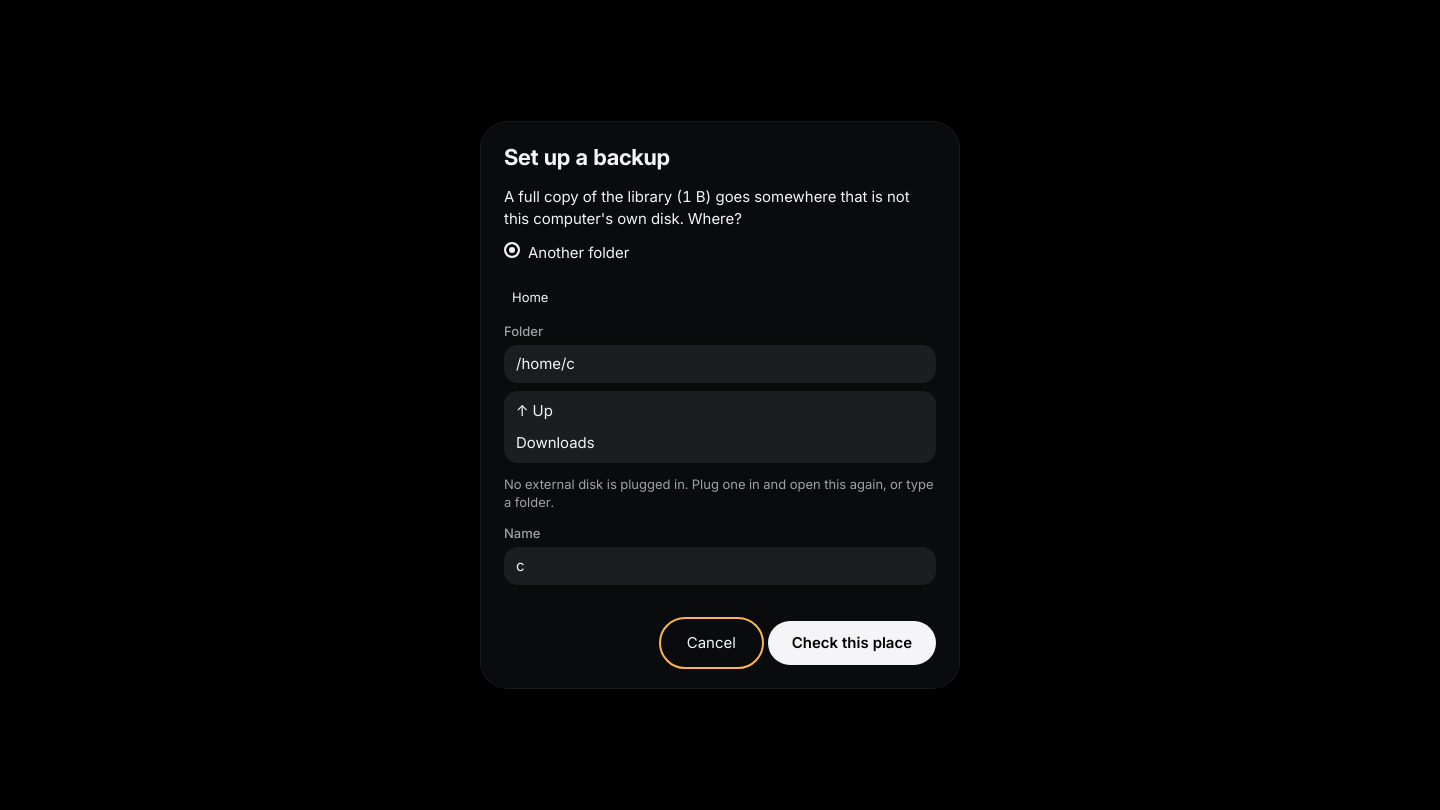
Test: BackupSetup, another folder › keeps a name that was typed when another folder is opened
Replace the text in the field labelled "Folder" with "/home/c/Downloads/testbackup" at (720, 364), box [504,345,936,383]
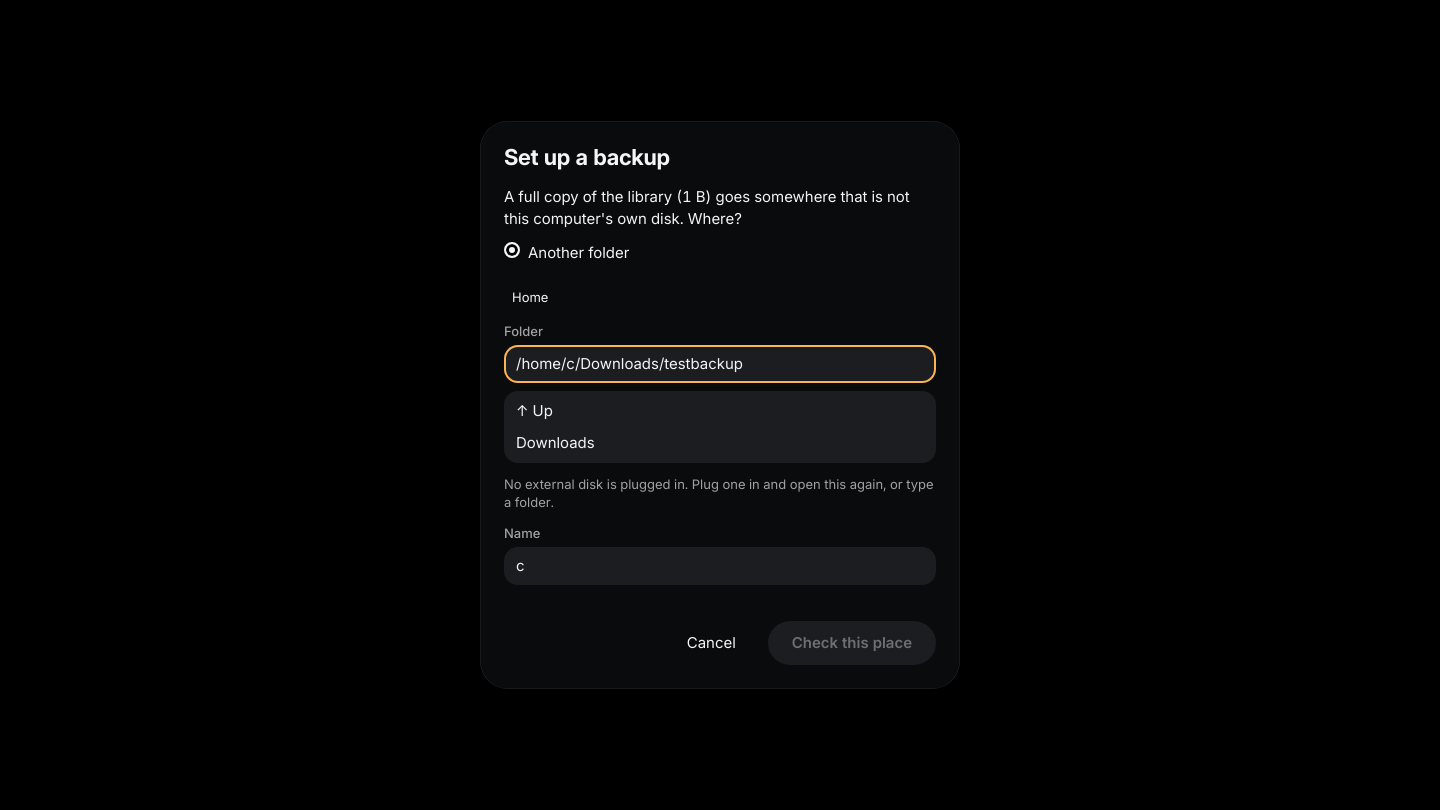
Press Enter in the field labelled "Folder", box [504,345,936,383]
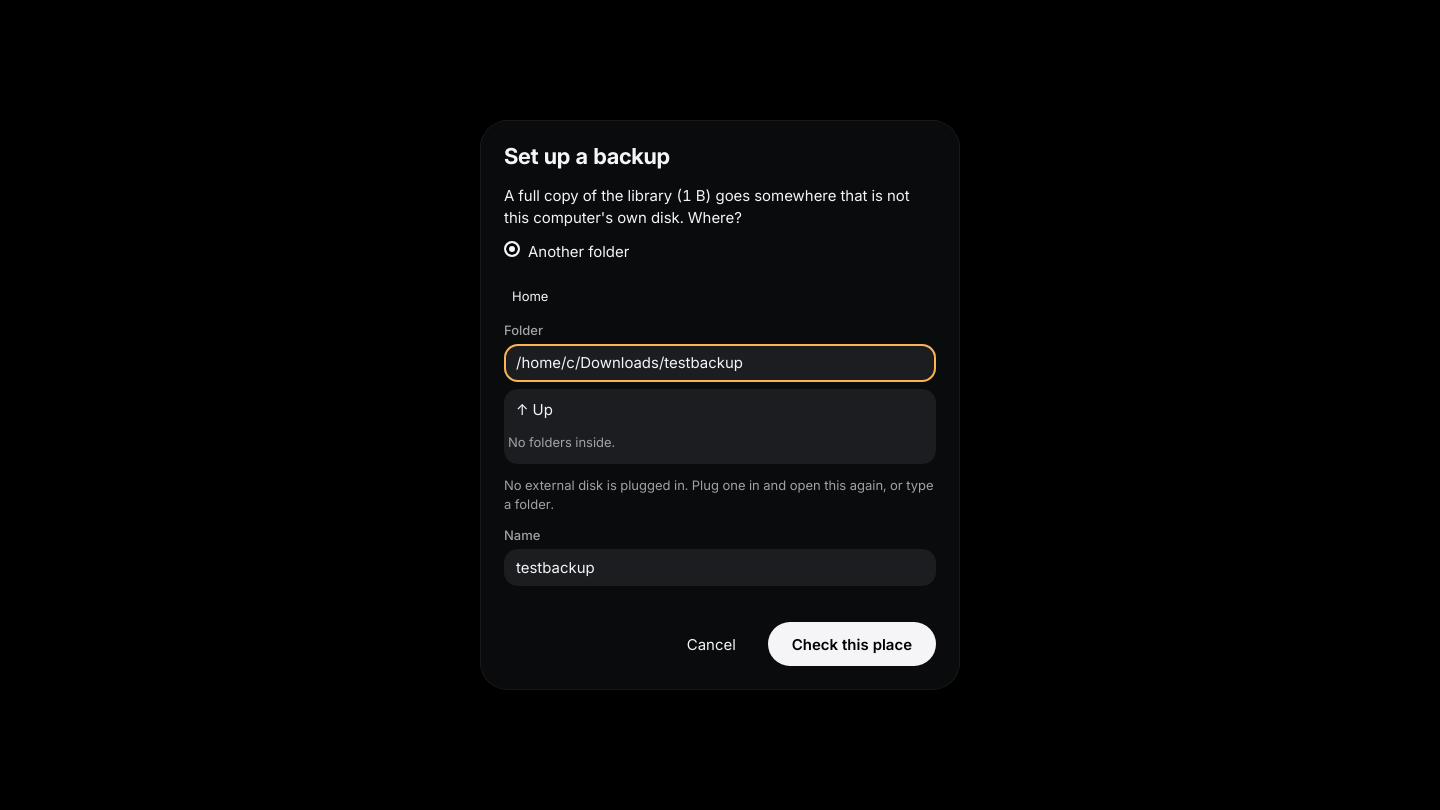
Replace the text in the field labelled "Name" with "Old disk" at (720, 567), box [504,548,936,586]
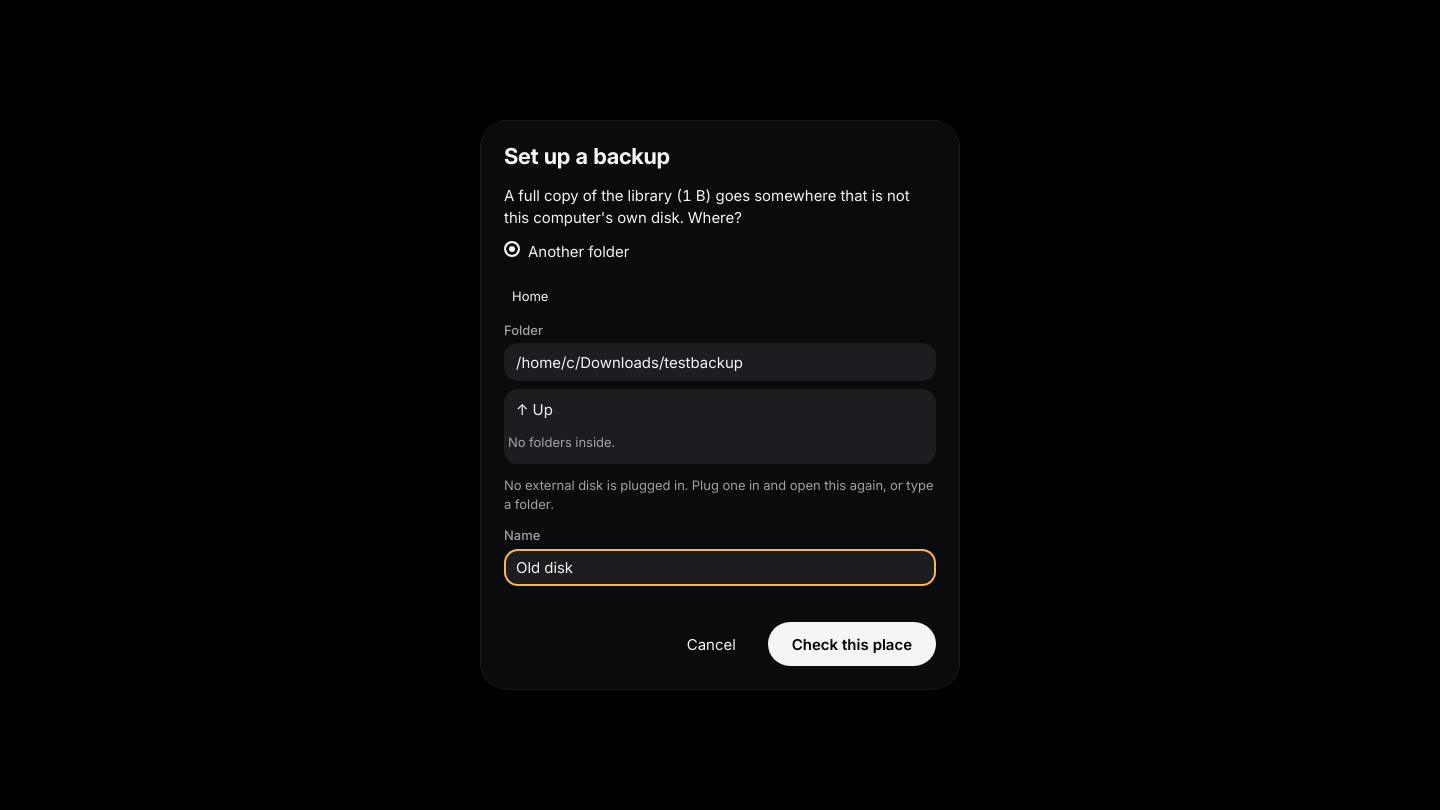
Click the button "Home" at (530, 296), box [504,280,556,312]
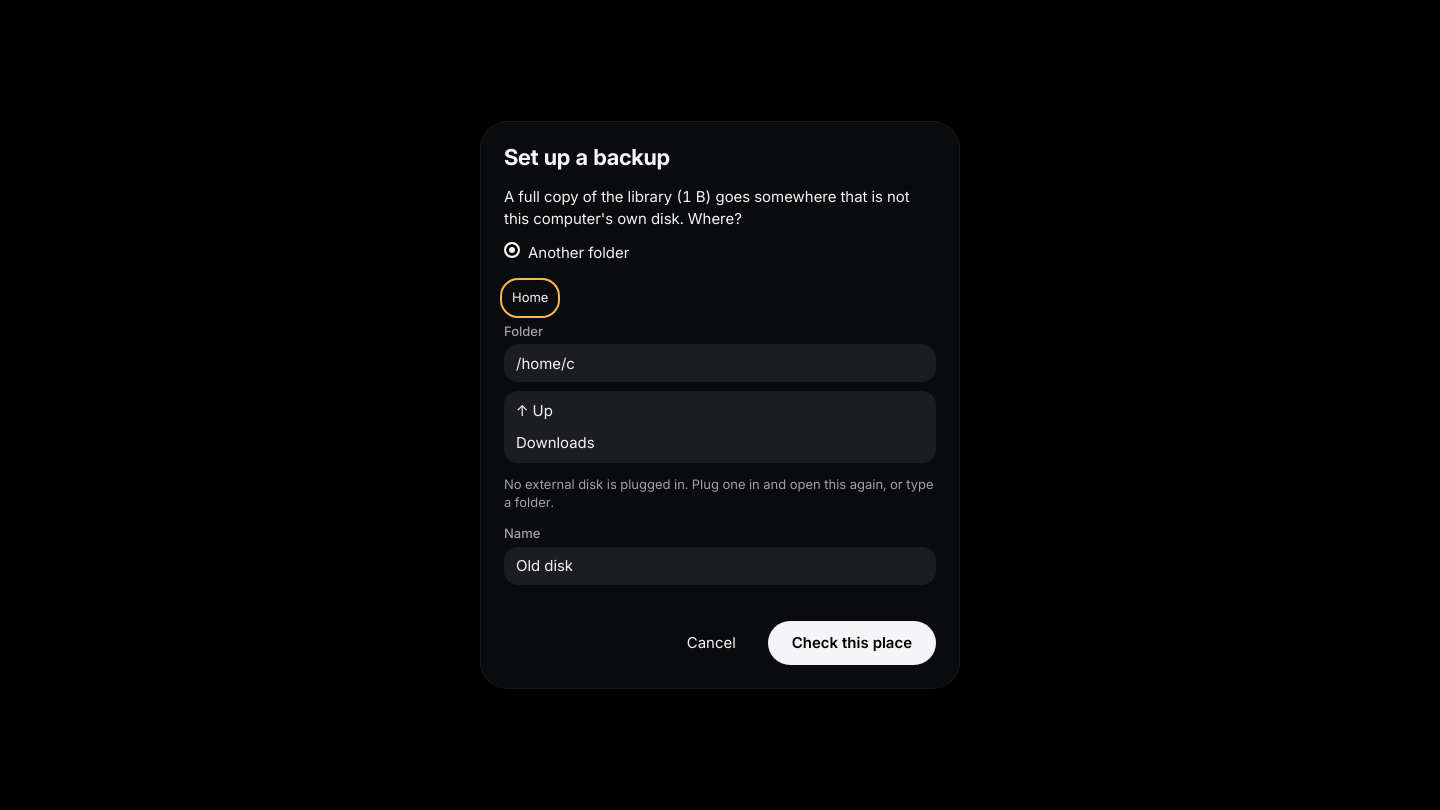
Result: the field labelled "Folder" holds "/home/c" at [504,345,936,383]
